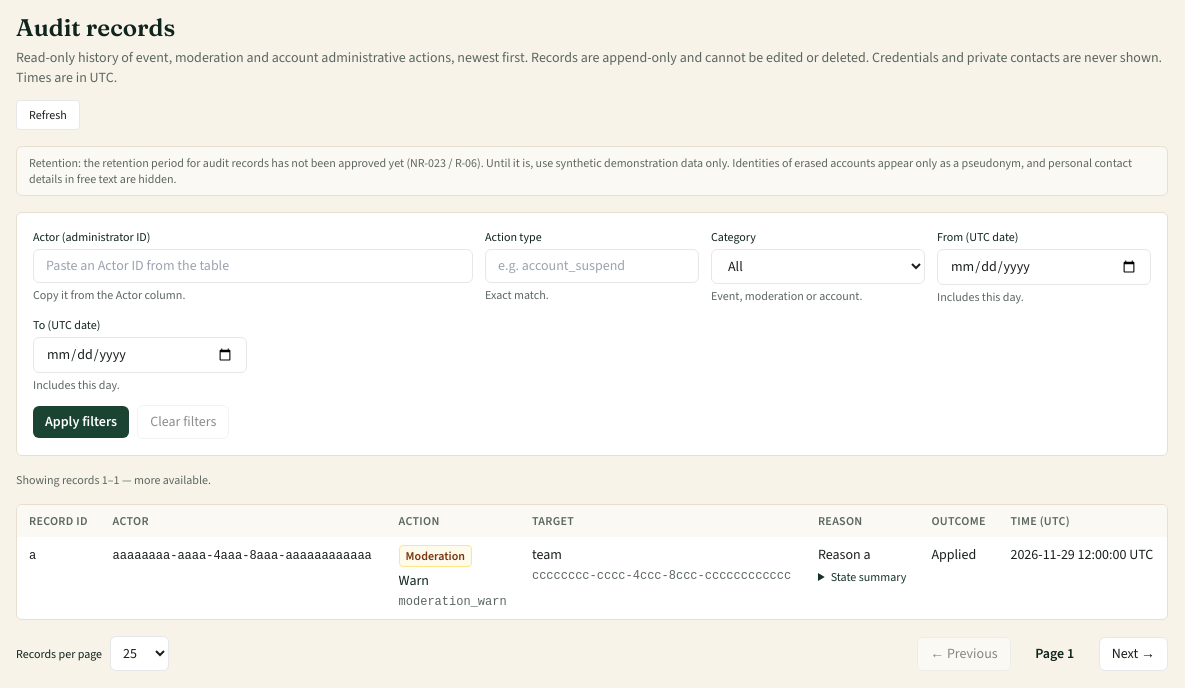
Scenario: AuditRecordsPage retention and pseudonymization (US-028 / #263) › the notices do not stop filters, paging or refresh from working
This screenshot has width=1185, height=688.
Click the button with test id "audit-page-next".
click(1133, 654)  # box 1099,636 -> 1168,670
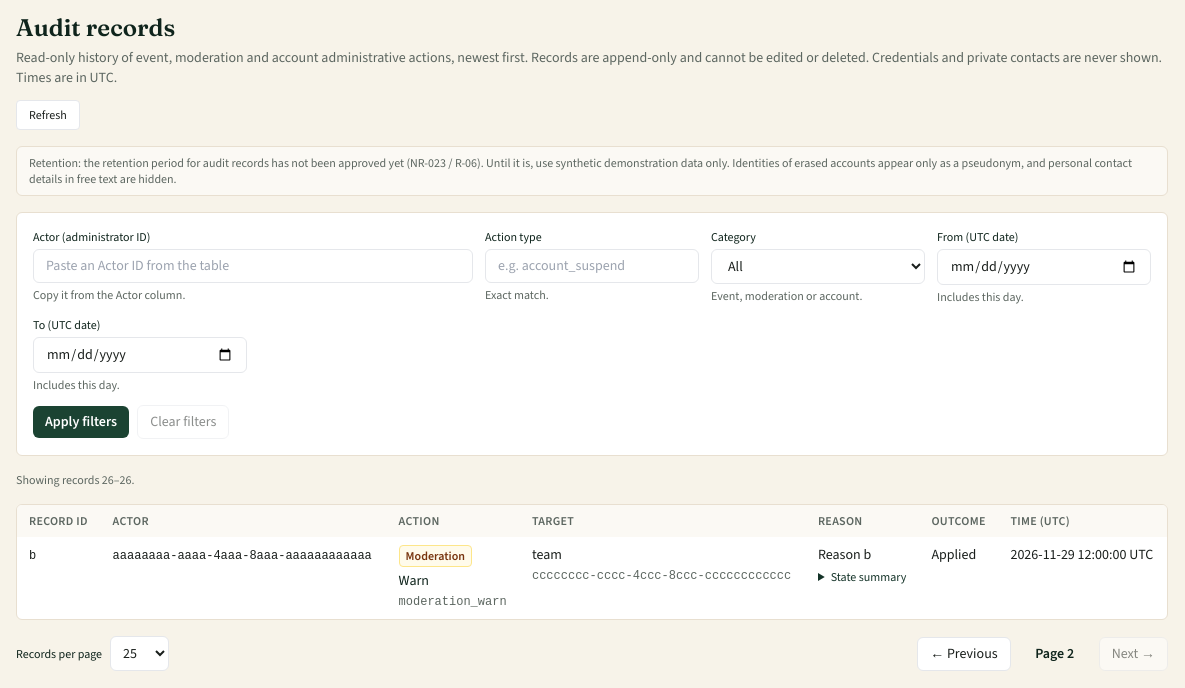
Expected: the row with test id "audit-row-b" is shown, 17,537 -> 1167,619
Click the button with test id "audit-refresh".
click(48, 115)  # box 16,100 -> 80,130
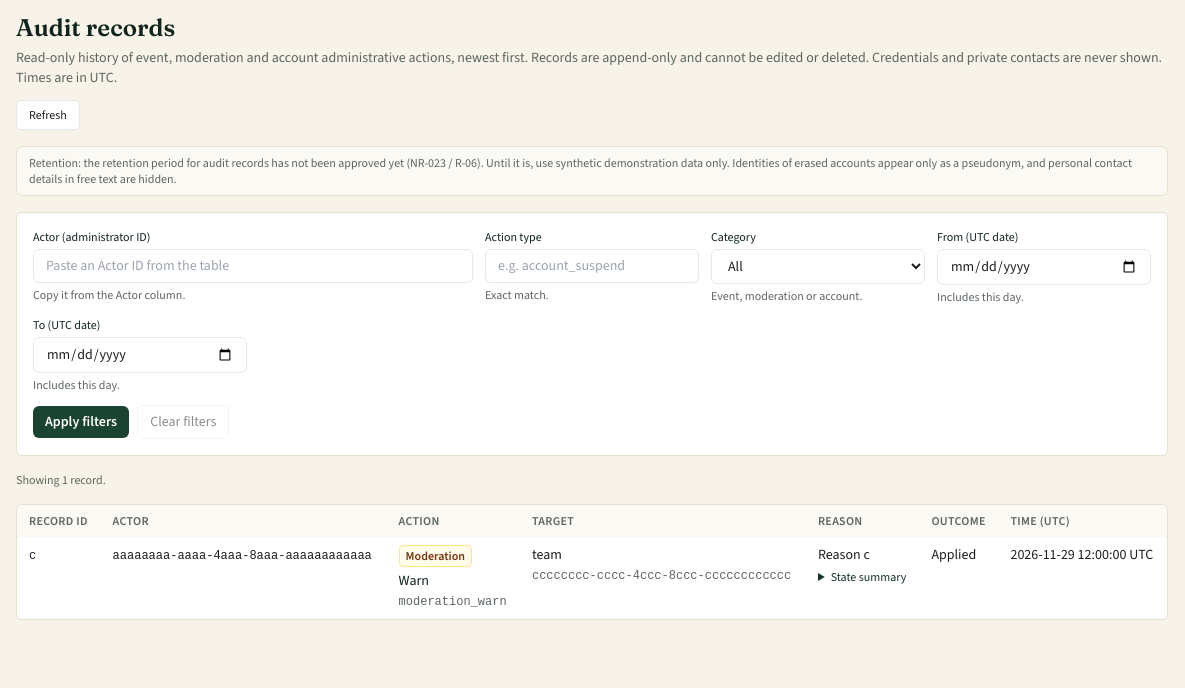
Expected: the row with test id "audit-row-c" is shown, 17,537 -> 1167,619
